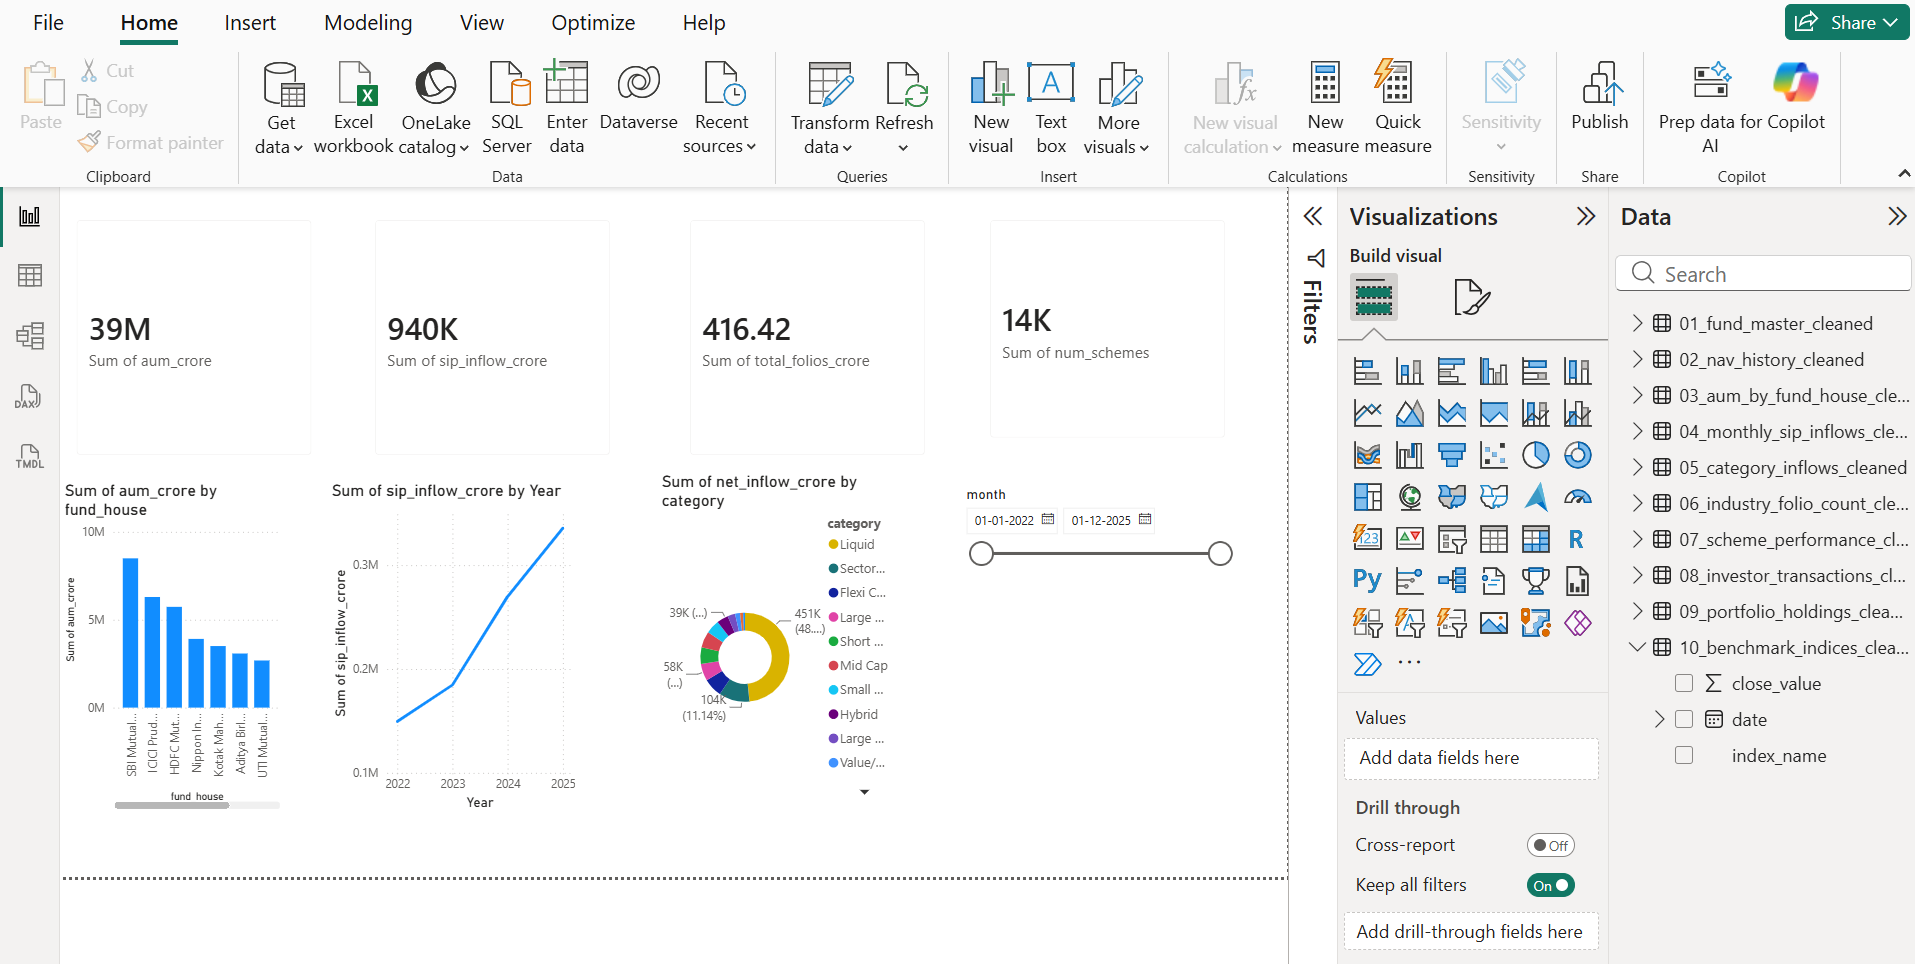

The page's visual inventory and layout, read from the dashboard file:
{"tool":"powerbi","page":{"name":"INDUSTRY_OVERVIEW","canvas":[1280,720],"ordinal":0},"visuals":[{"type":"cardVisual","fields":{"Data":["Sum(03_aum_by_fund_house_cleaned.aum_crore)"]},"box":[0,17.7,279.5,279.5],"z":0},{"type":"cardVisual","fields":{"Data":["Sum(04_monthly_sip_inflows_cleaned.sip_inflow_crore)"]},"box":[311,17.7,279.5,279.5],"z":1000},{"type":"cardVisual","fields":{"Data":["Sum(06_industry_folio_count_cleaned.total_folios_crore)"]},"box":[639.7,17.7,279.5,279.5],"z":2000},{"type":"cardVisual","fields":{"Data":["Sum(03_aum_by_fund_house_cleaned.num_schemes)"]},"box":[952.6,17.7,279.5,261.8],"z":3000},{"type":"lineChart","fields":{"Category":["04_monthly_sip_inflows_cleaned.month.Variation.Date Hierarchy.Year","04_monthly_sip_inflows_cleaned.month.Variation.Date Hierarchy.Quarter","04_monthly_sip_inflows_cleaned.month.Variation.Date Hierarchy.Month","04_monthly_sip_inflows_cleaned.month.Variation.Date Hierarchy.Day"],"Y":["Sum(04_monthly_sip_inflows_cleaned.sip_inflow_crore)"]},"box":[279.1,306.3,263.6,347],"z":4000},{"type":"donutChart","fields":{"Category":["05_category_inflows_cleaned.category"],"Y":["Sum(05_category_inflows_cleaned.net_inflow_crore)"]},"box":[622.2,296.6,257.8,347],"z":5000},{"type":"columnChart","fields":{"Category":["03_aum_by_fund_house_cleaned.fund_house"],"Y":["Sum(03_aum_by_fund_house_cleaned.aum_crore)"]},"box":[0,306.3,234.6,347],"z":6000},{"type":"slicer","fields":{"Values":["04_monthly_sip_inflows_cleaned.month"]},"box":[932.4,306.3,298.5,337.3],"z":7000}]}

Visuals, with their boxes on the page's 1280x720 design canvas (x1, y1, x2, y2). These are canvas units, not pixel positions in the 1915x964 screenshot, which may show the page scaled, cropped or inside an application window:
cardVisual - Sum(03_aum_by_fund_house_cleaned.aum_crore): [x1=0, y1=18, x2=280, y2=297]
cardVisual - Sum(04_monthly_sip_inflows_cleaned.sip_inflow_crore): [x1=311, y1=18, x2=590, y2=297]
cardVisual - Sum(06_industry_folio_count_cleaned.total_folios_crore): [x1=640, y1=18, x2=919, y2=297]
cardVisual - Sum(03_aum_by_fund_house_cleaned.num_schemes): [x1=953, y1=18, x2=1232, y2=280]
lineChart - 04_monthly_sip_inflows_cleaned.month.Variation.Date Hierarchy.Year x 04_monthly_sip_inflows_cleaned.month.Variation.Date Hierarchy.Quarter: [x1=279, y1=306, x2=543, y2=653]
donutChart - 05_category_inflows_cleaned.category x Sum(05_category_inflows_cleaned.net_inflow_crore): [x1=622, y1=297, x2=880, y2=644]
columnChart - 03_aum_by_fund_house_cleaned.fund_house x Sum(03_aum_by_fund_house_cleaned.aum_crore): [x1=0, y1=306, x2=235, y2=653]
slicer - 04_monthly_sip_inflows_cleaned.month: [x1=932, y1=306, x2=1231, y2=644]
